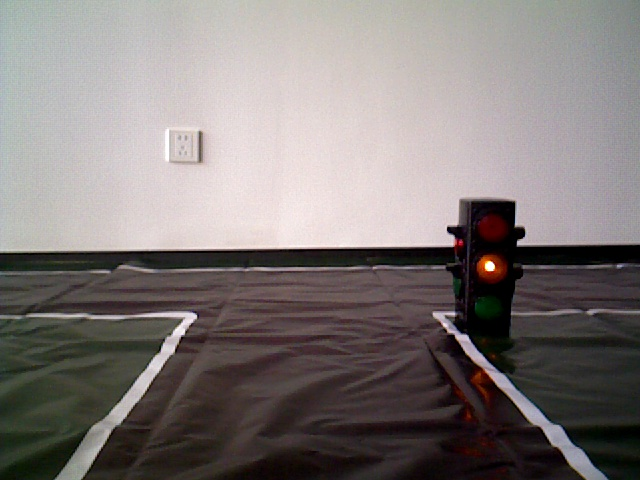yellow: (464, 205, 510, 322)
